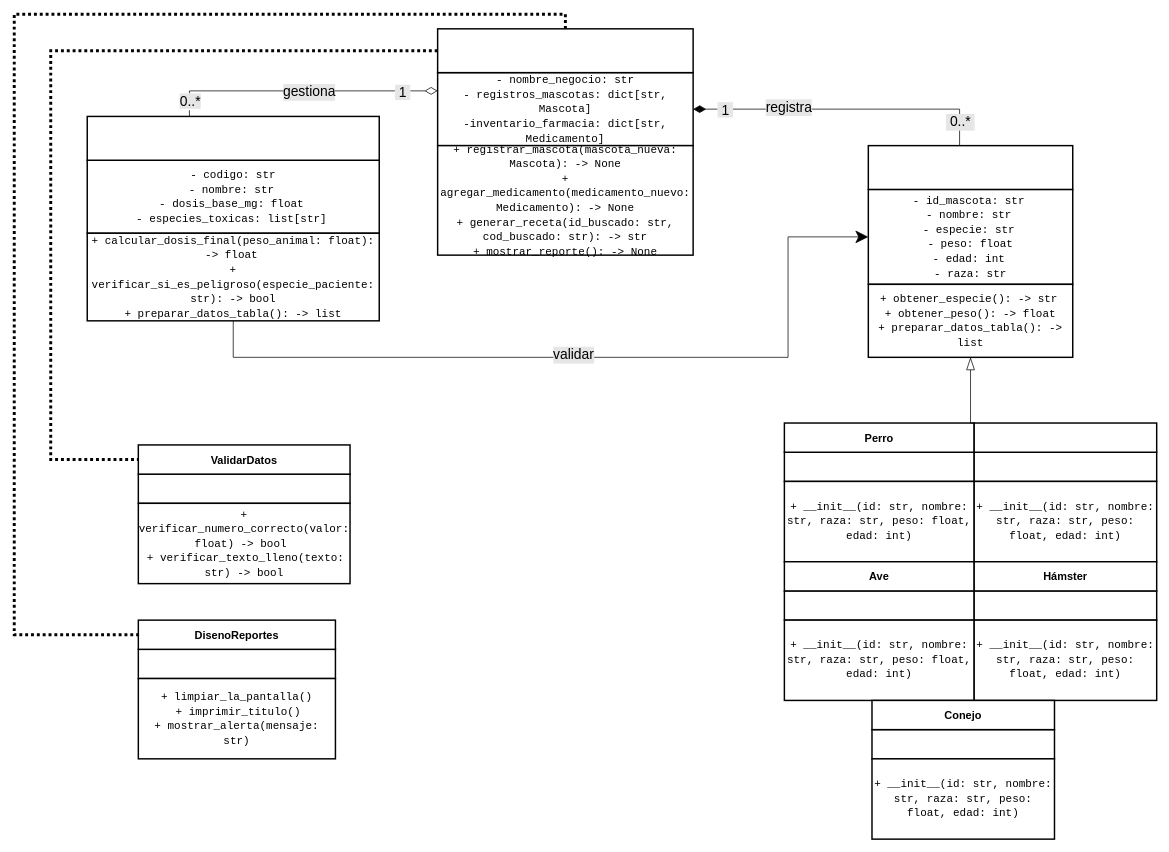
This 1169x852 diagram has some shape labels left out. The box of each missing label's shape, as (x1, y1, x2, y2) in pixels:
ClinicaVeterinaria: (437, 28, 694, 73)
Gato: (973, 422, 1157, 453)
Mascota: (867, 145, 1073, 190)
Medicamento: (86, 115, 380, 161)
